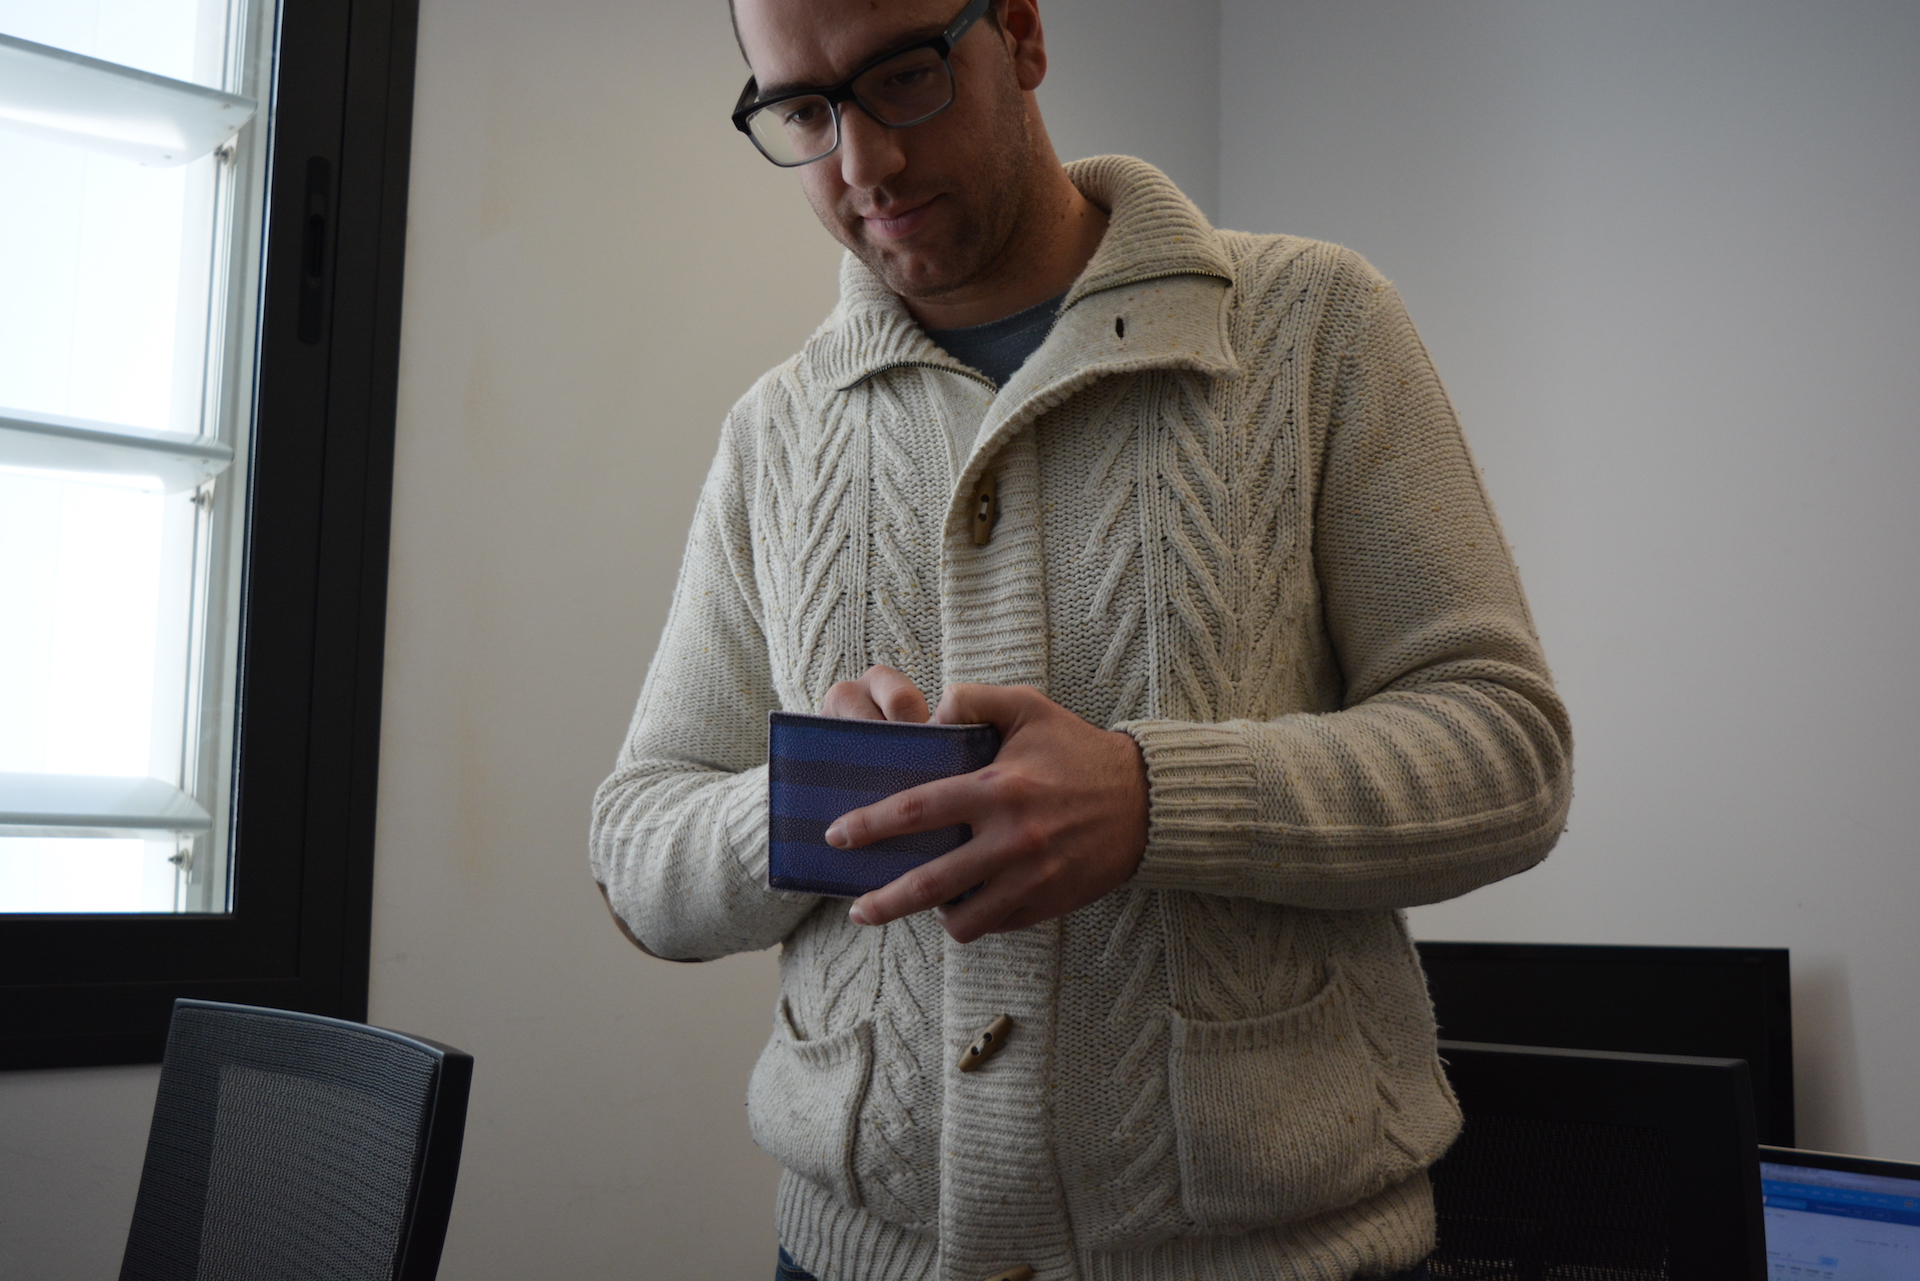monedero: (766, 709, 1008, 901)
